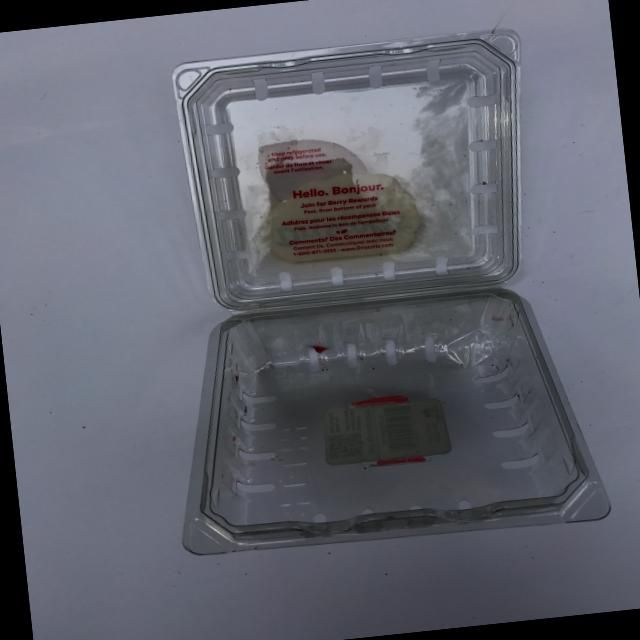Plastic: (77, 7, 619, 598)
